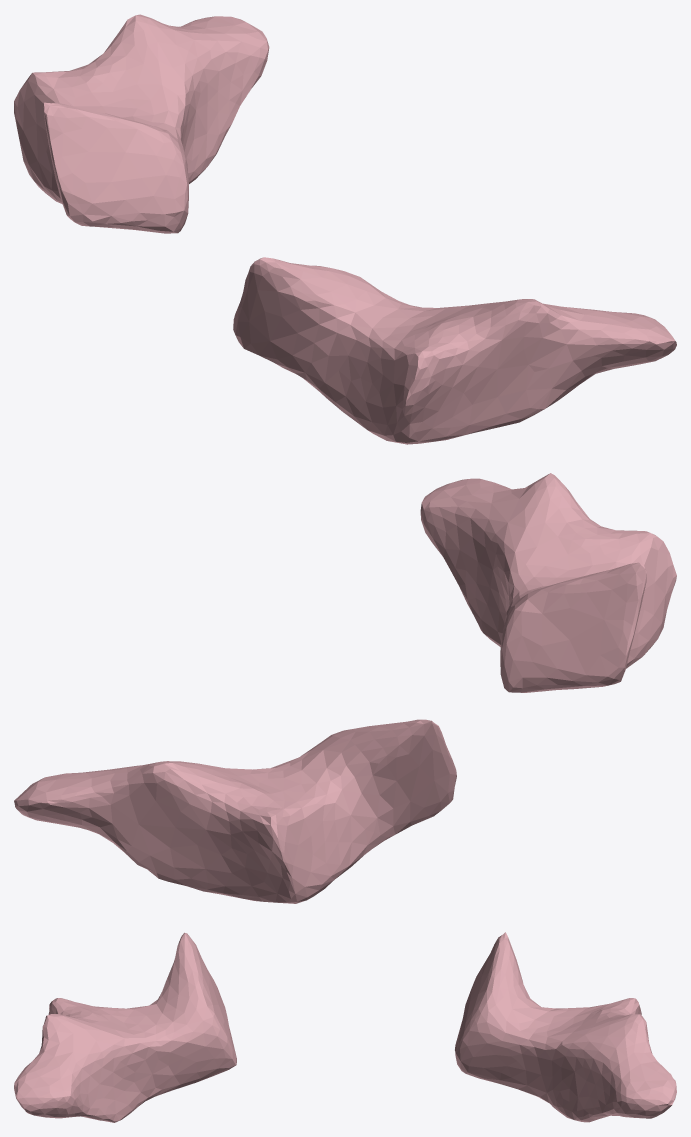
3 views of the same model, one above another, from view 1: azimuth 30°, elevation 25°; view 2: azimuth 150°, elevation 25°; view 3: azimuth 270°, elevation 25° (orthographic). The views are drawn at different scales.
Parts seen in each view (by area): view 1: 218.obj; view 2: 218.obj; view 3: 218.obj.
Boxes of the visible parts, x1,y1,x2,y2 form: 218.obj: (14,14,676,444); 218.obj: (14,473,676,903); 218.obj: (14,932,676,1122).
Bounding box in the file's own units: 1896 × 907 × 4569.
